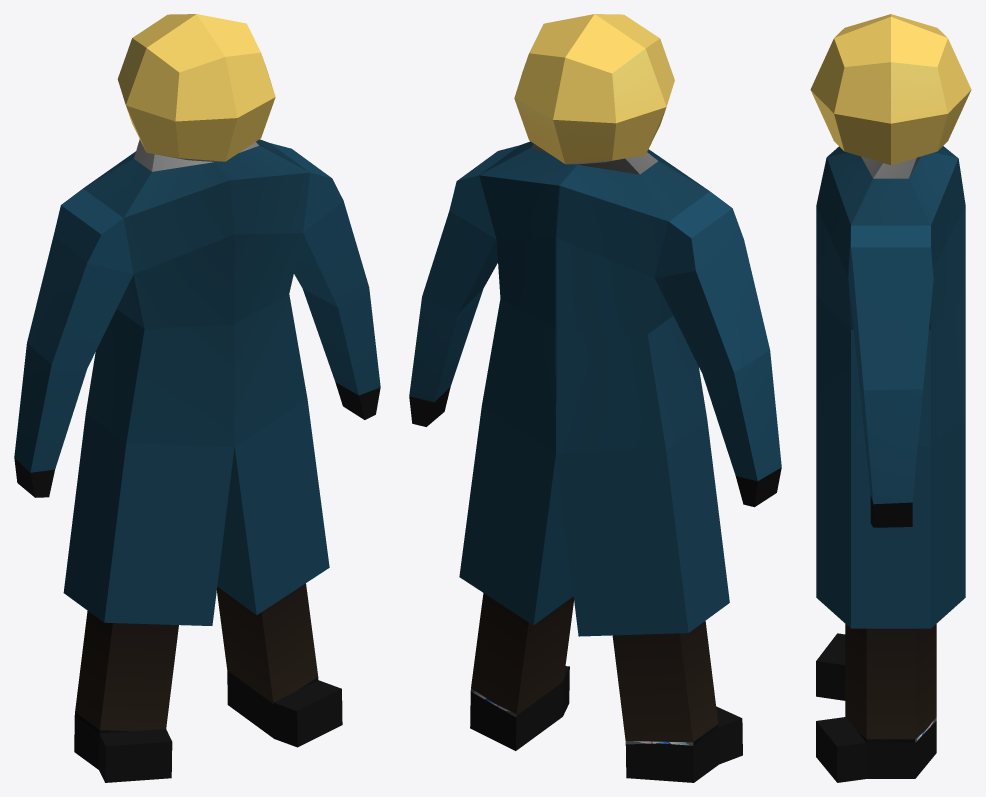
Rendered from char4.fbx.
The picture shows the model from 3 angles, left to right: view 1: azimuth 30°, elevation 25°; view 2: azimuth 150°, elevation 25°; view 3: azimuth 270°, elevation 25°; orthographic projection. The views are drawn at different scales.
Parts seen in each view (by area): view 1: Cube.001; view 2: Cube.001; view 3: Cube.001.
Boxes of the visible parts, box(x1,y1,x2,y2) form: Cube.001: box(14, 14, 380, 782); Cube.001: box(409, 14, 781, 782); Cube.001: box(810, 14, 971, 782).
Bounding box in the file's own units: 257 × 506 × 104.
